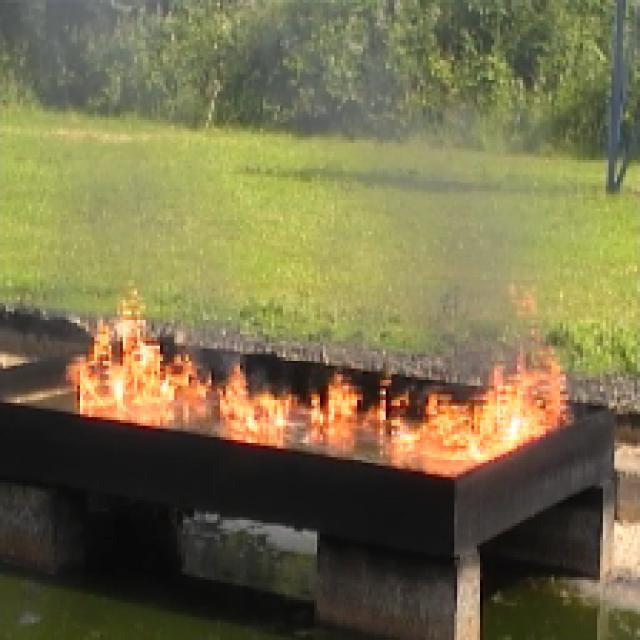Fire: (69, 290, 621, 481)
